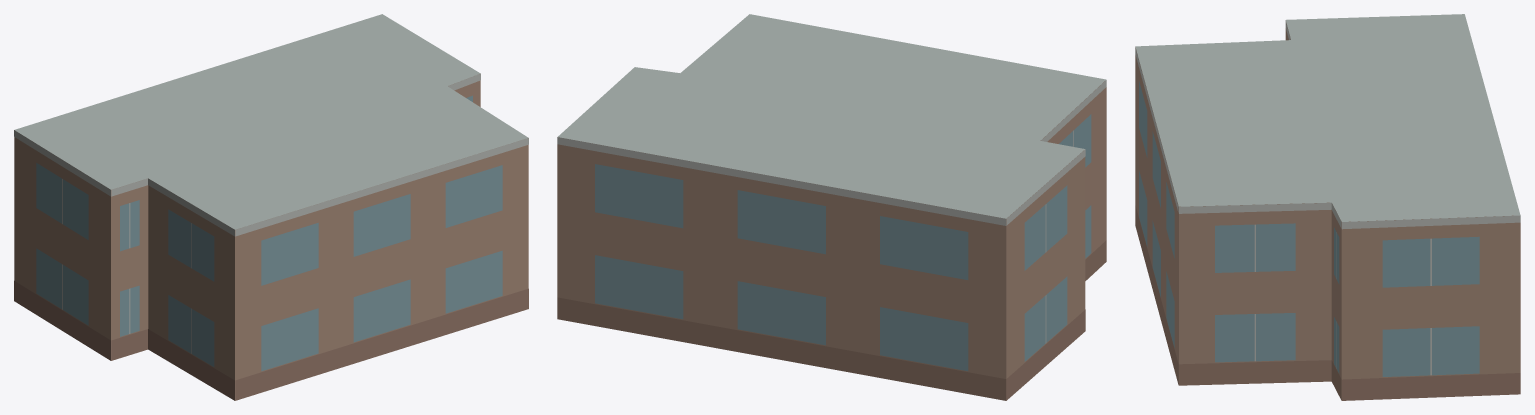
The model's file is survey-upis-32894297.glb.
3 views of the same model, side by side, from view 1: azimuth 30°, elevation 25°; view 2: azimuth 150°, elevation 25°; view 3: azimuth 270°, elevation 25° (orthographic). The views are drawn at different scales.
Visible parts, largest first — view 1: survey-upis-32894297.tmp; view 2: survey-upis-32894297.tmp; view 3: survey-upis-32894297.tmp.
Boxes of the visible parts, bbox=[...] form: survey-upis-32894297.tmp: bbox=[14, 14, 528, 400]; survey-upis-32894297.tmp: bbox=[557, 14, 1106, 400]; survey-upis-32894297.tmp: bbox=[1135, 14, 1520, 400].
Bounding box in the file's own units: 15.23 × 6.1 × 11.92.
